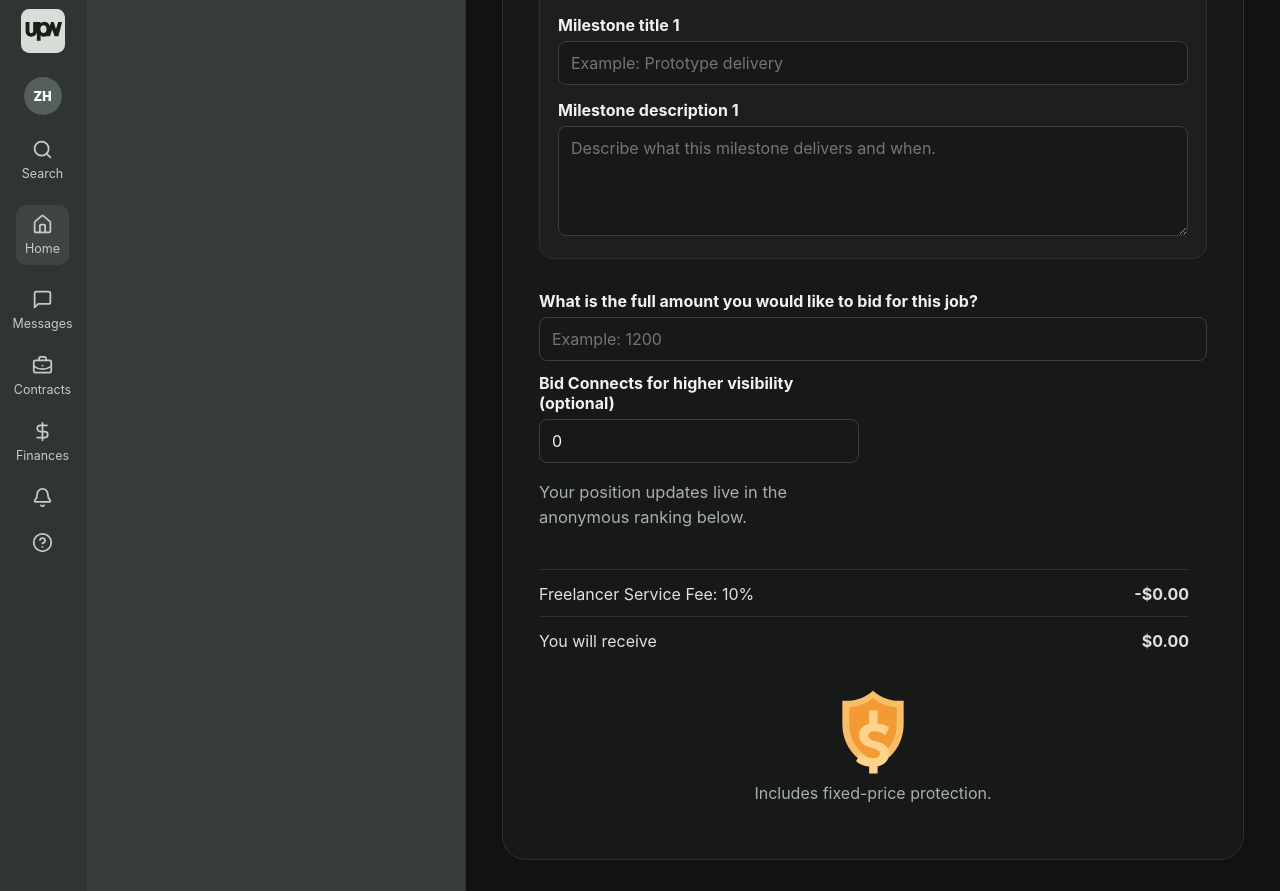
Test: candidate integration flow › uses anonymous labels and adds the candidate to the live Connects ranking
(page scrolled)
Replace the text in the number field labelled "Bid Connects for higher visibility (optional)" with "40" at (699, 441), box top-left (539, 419), bottom-right (859, 463)
(page scrolled)
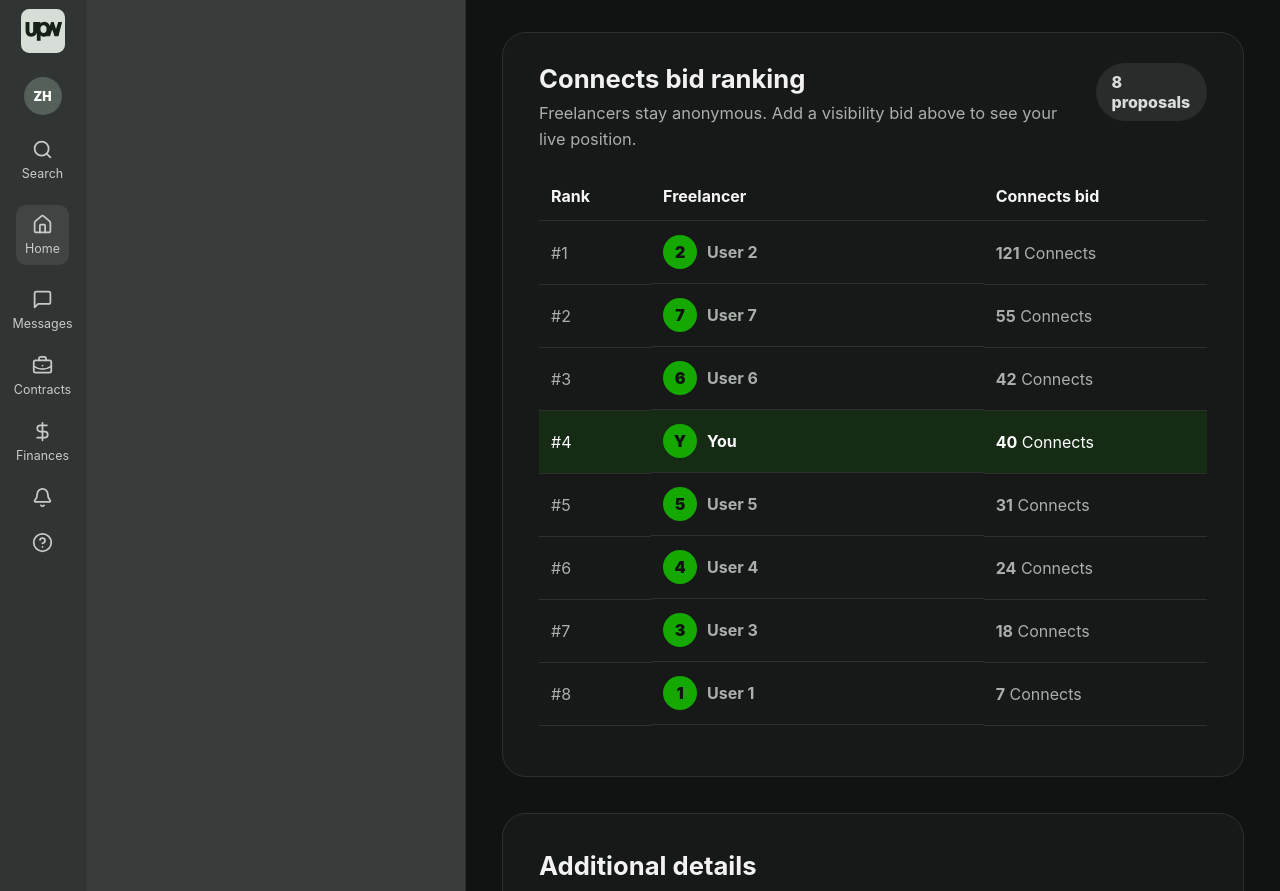
Now the text "You" is shown, box top-left (707, 432), bottom-right (737, 452)
